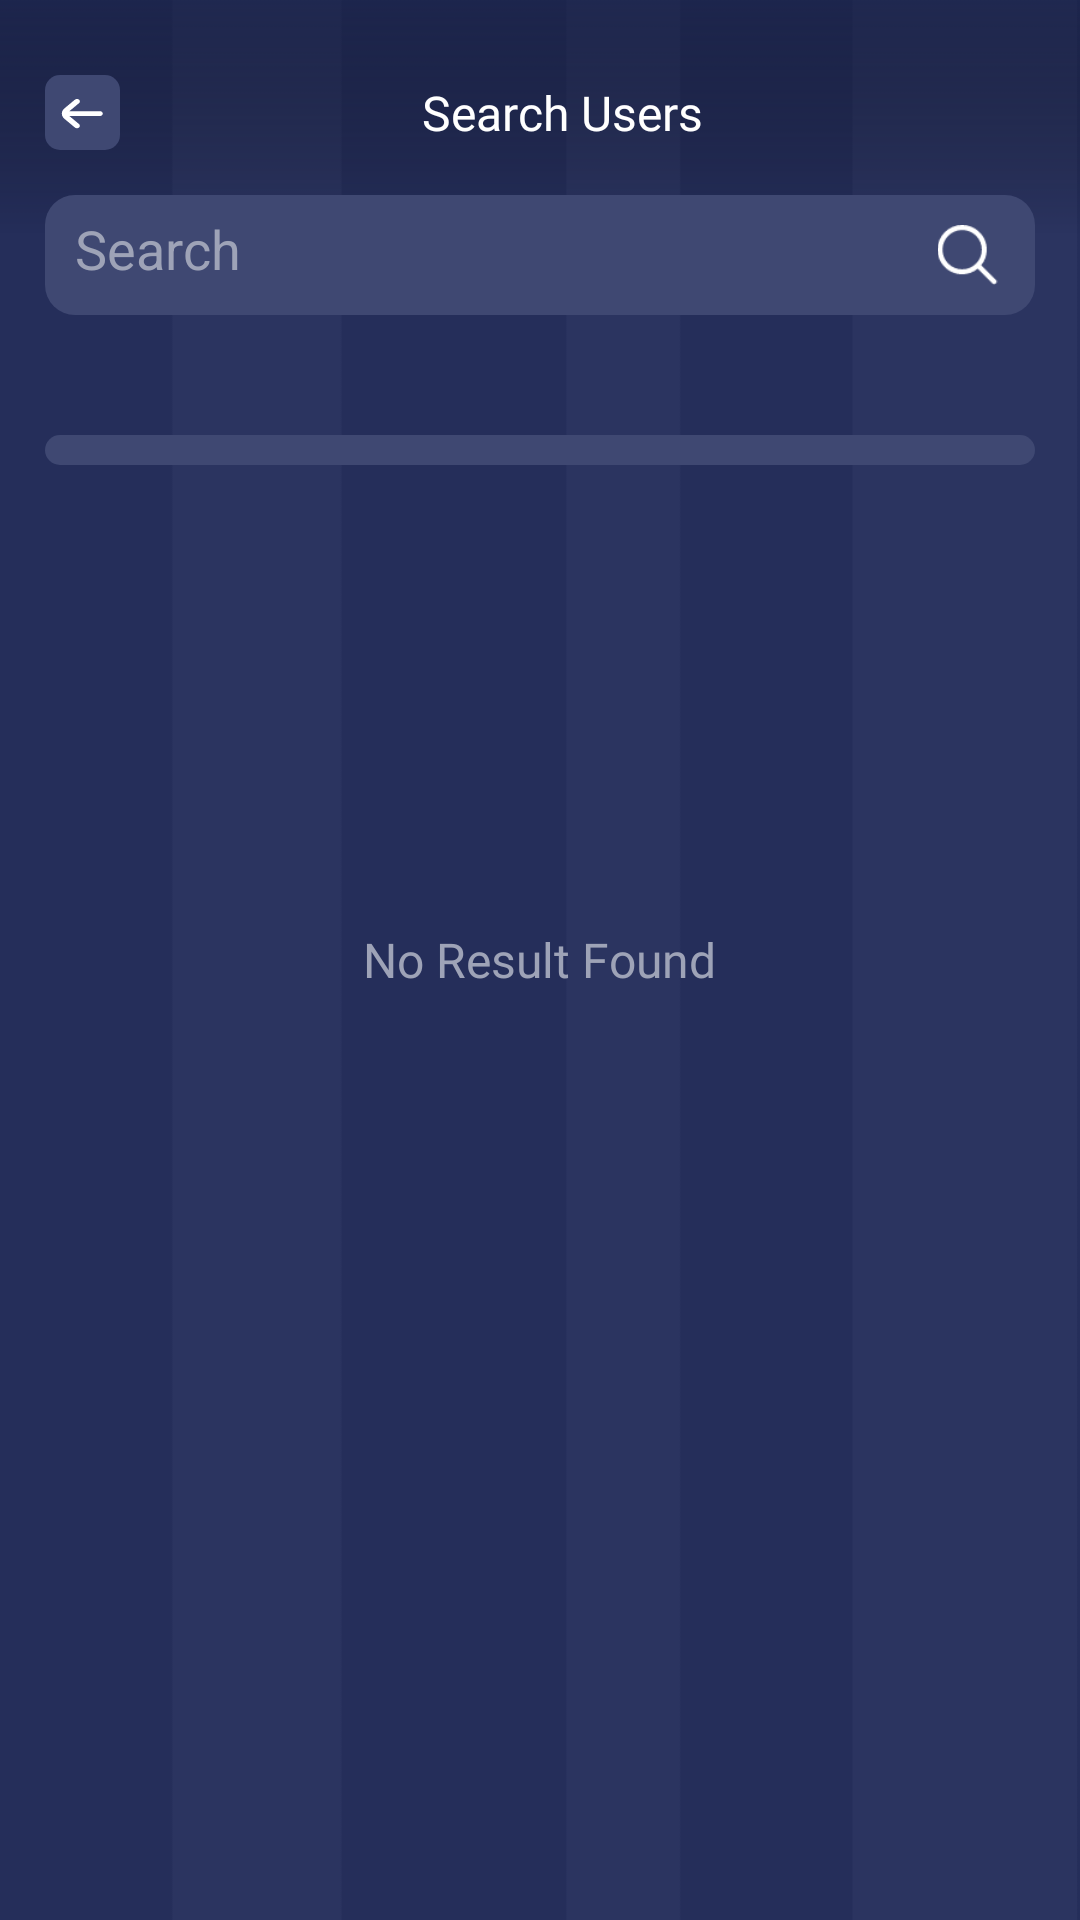

Named icons in this screenshot (1080w x 1920h) and their bounding boxes, (x1, y1, x2, y2):
back arrow: (45, 75, 120, 150)
